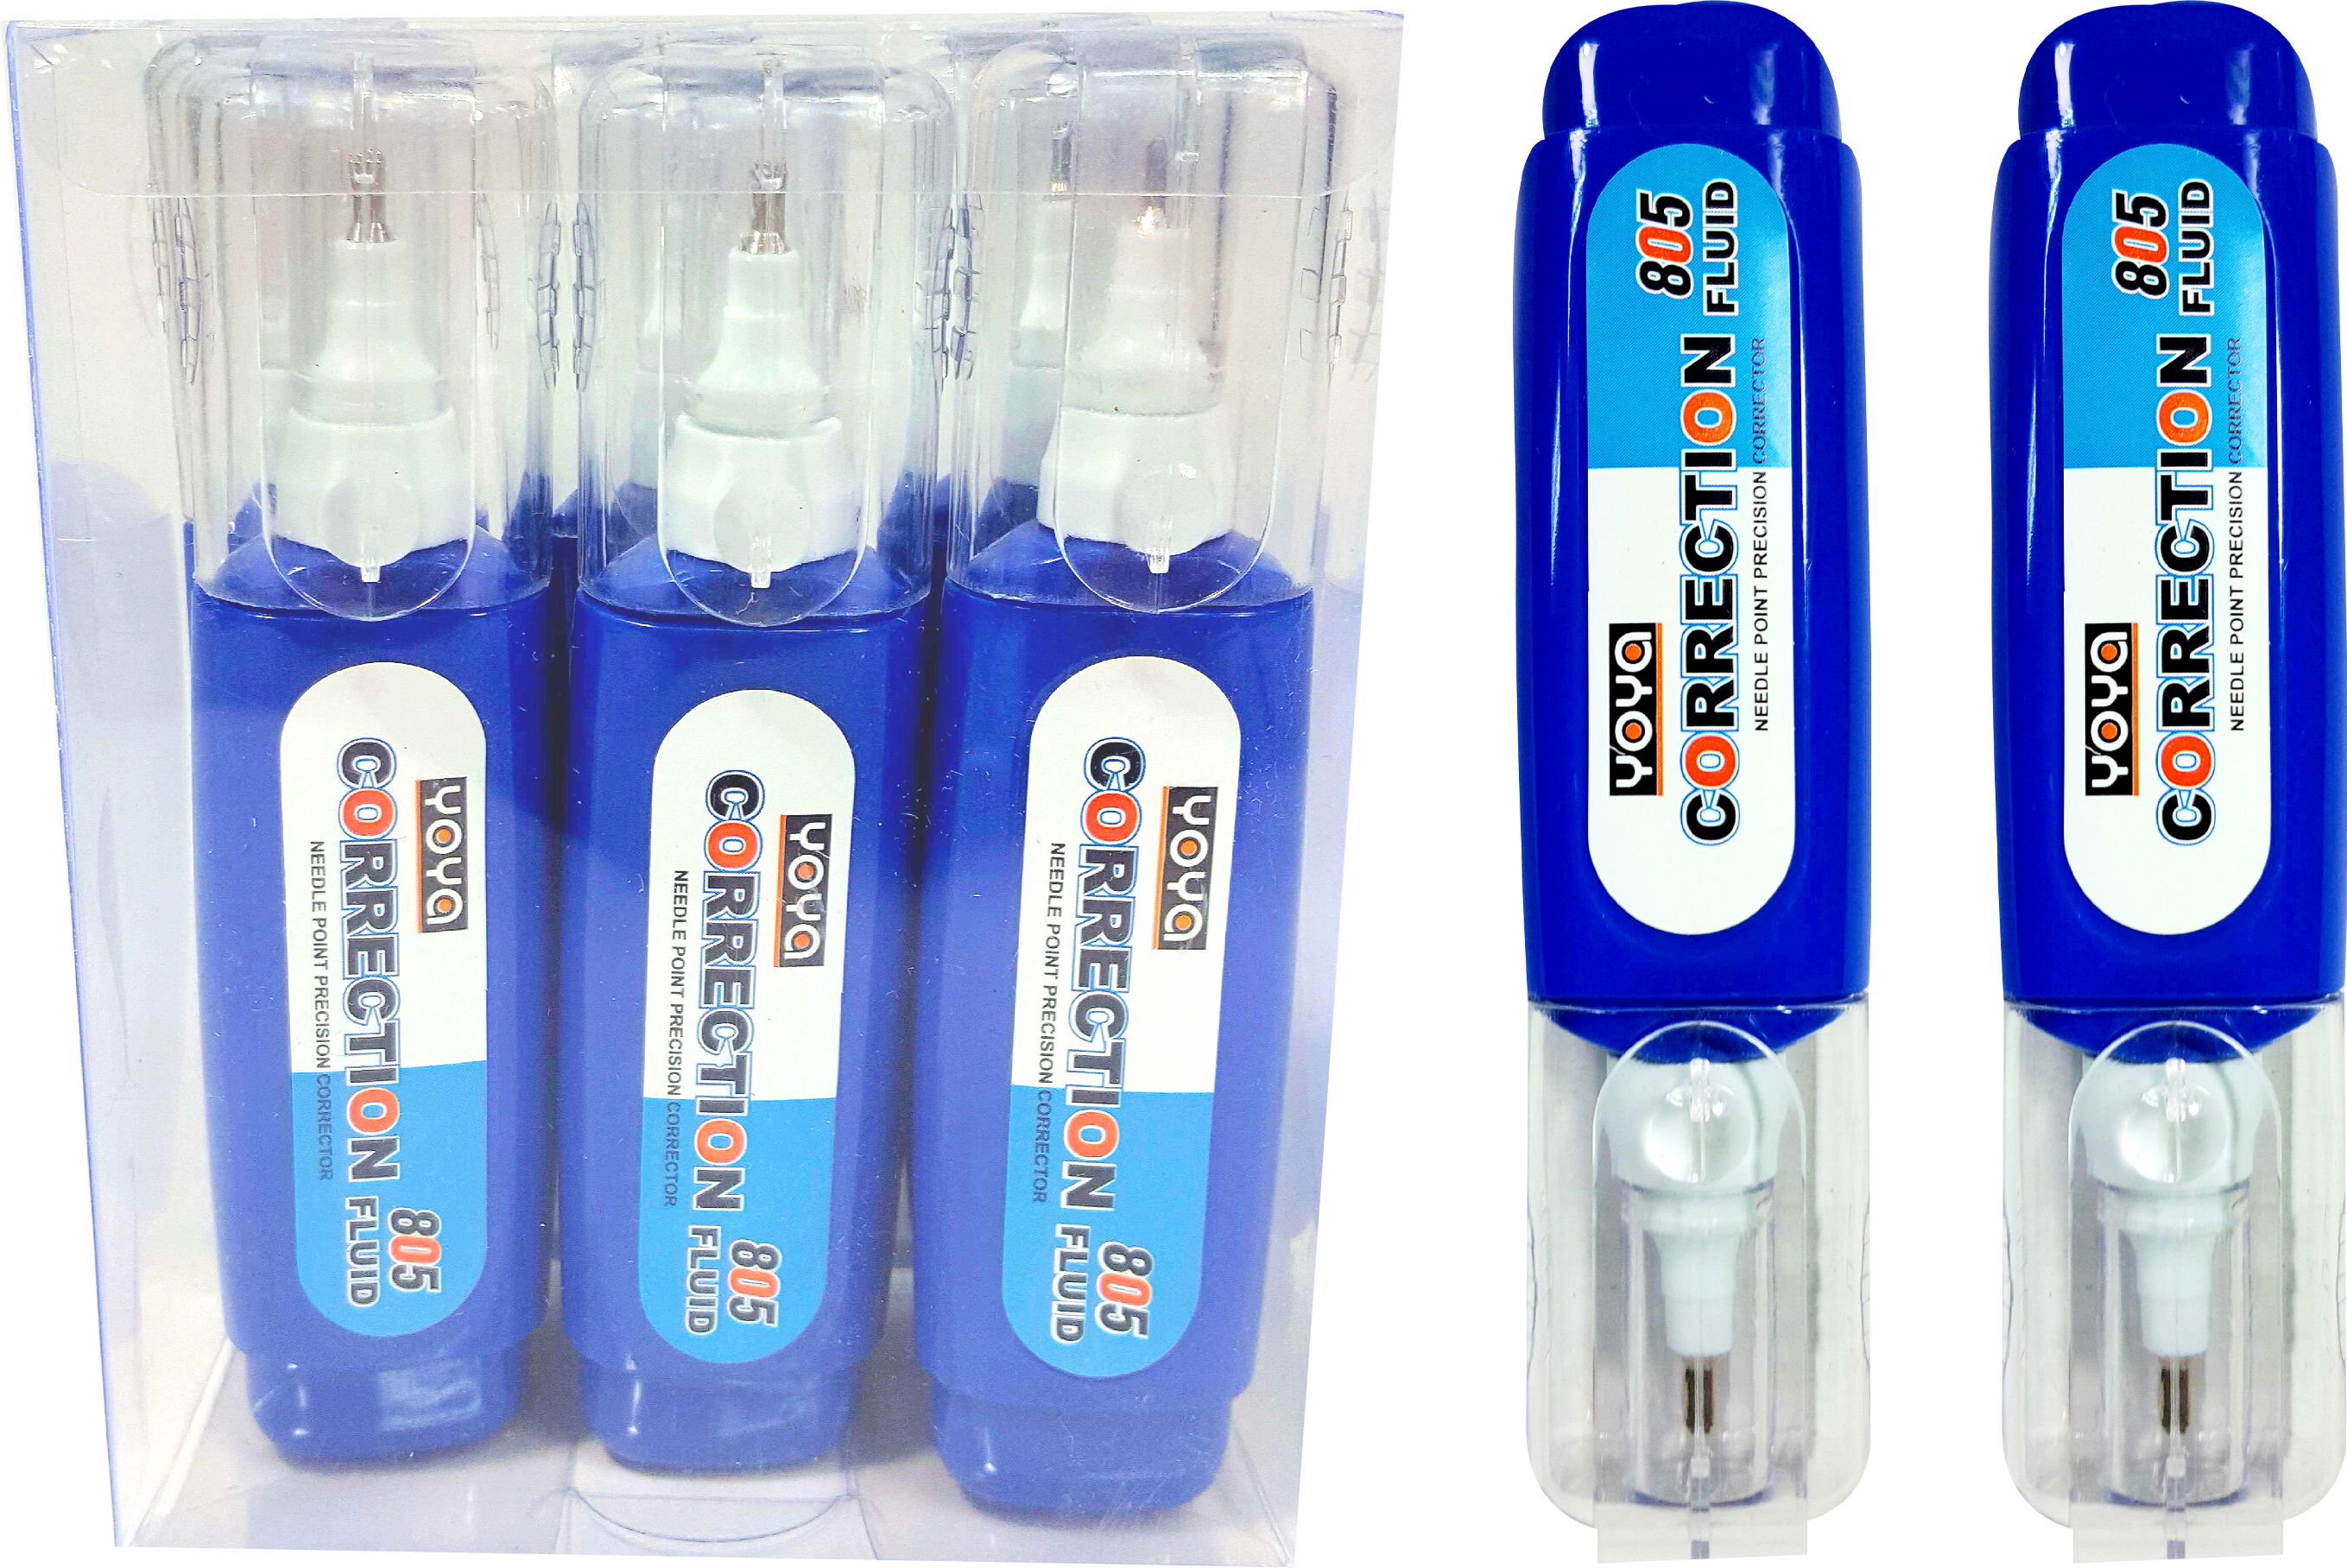Correction_fluid: (130, 32, 586, 1475), (896, 47, 1323, 1530), (1976, 2, 2347, 1568), (1509, 0, 1880, 1566), (555, 40, 945, 1474)
